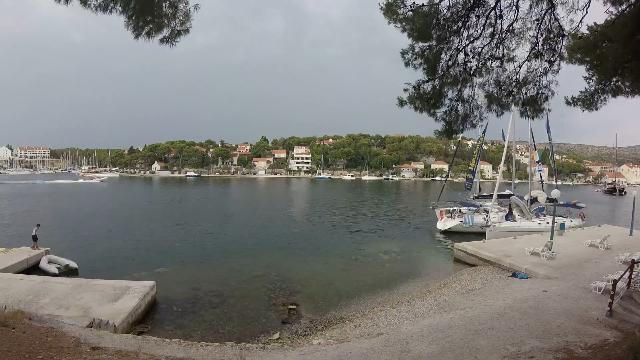speedboat: (80, 171, 114, 187)
